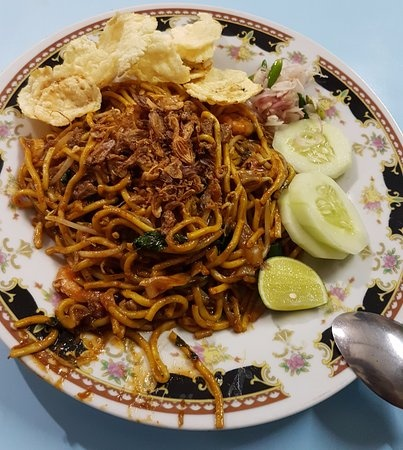mie_aceh: (18, 92, 292, 341)
